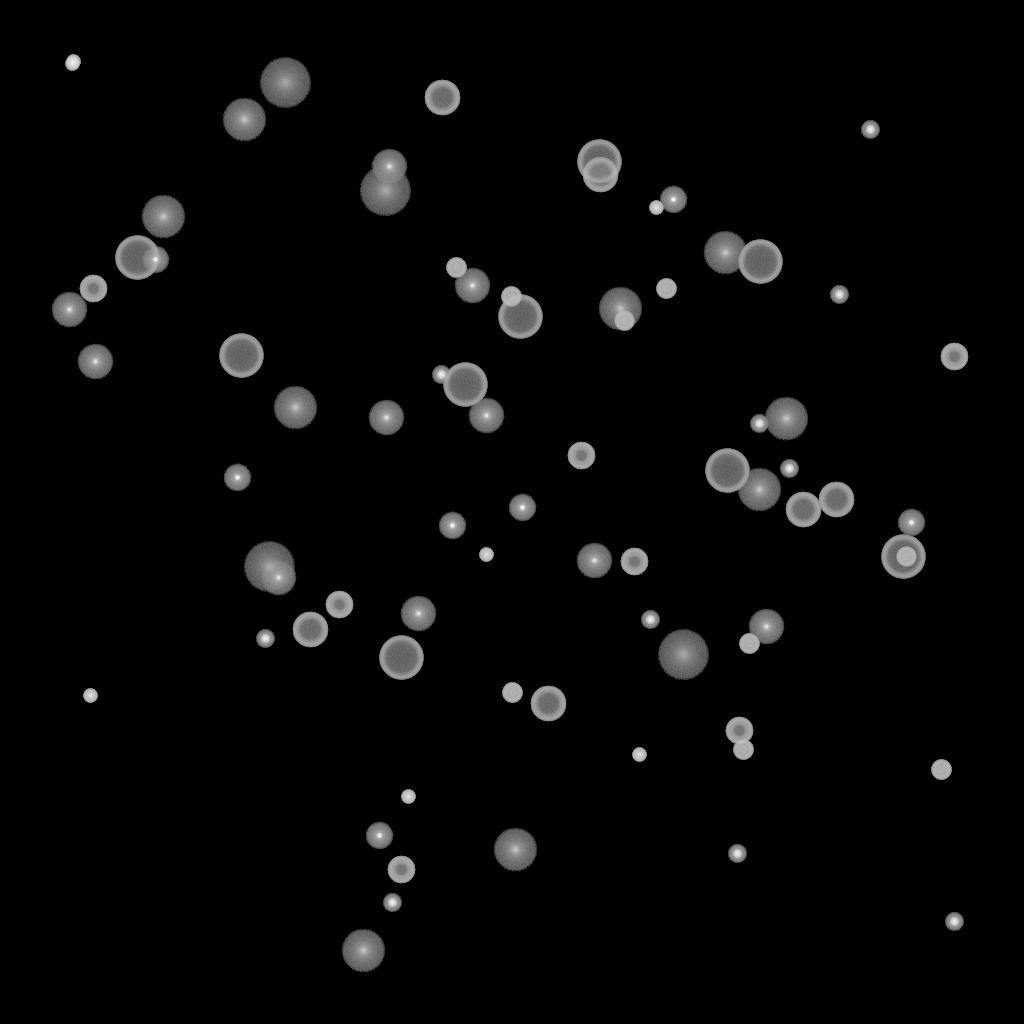depth:-10: (659, 186, 687, 214), (365, 822, 393, 850), (508, 494, 536, 522), (141, 246, 169, 274), (223, 464, 251, 492), (438, 512, 466, 540), (897, 509, 925, 537)
depth:-20: (861, 121, 879, 139), (383, 894, 401, 912), (830, 286, 848, 304), (750, 415, 768, 433), (728, 845, 746, 863), (780, 460, 798, 478), (256, 630, 274, 648), (432, 366, 450, 384), (641, 611, 659, 629), (945, 913, 963, 931)
depth:-30: (83, 689, 97, 703), (479, 548, 493, 562), (649, 201, 663, 215), (401, 790, 415, 804), (66, 55, 80, 69), (632, 748, 646, 762), (65, 57, 79, 71)
depth:-40: (931, 760, 951, 780), (446, 258, 466, 278), (614, 311, 634, 331), (739, 634, 759, 654), (656, 279, 676, 299), (896, 547, 916, 567), (501, 287, 521, 307), (733, 740, 753, 760), (502, 683, 522, 703)
depth:-50: (325, 591, 353, 619), (940, 343, 968, 371), (567, 442, 595, 470), (387, 856, 415, 884), (620, 548, 648, 576), (79, 275, 107, 303), (725, 717, 753, 745)
depth:-60: (582, 157, 618, 193), (424, 80, 460, 116), (785, 492, 821, 528), (530, 686, 566, 722), (818, 482, 854, 518), (292, 612, 328, 648)
depth:-70: (577, 140, 621, 184), (115, 236, 159, 280), (881, 535, 925, 579), (219, 334, 263, 378), (498, 295, 542, 339), (379, 636, 423, 680), (705, 449, 749, 493), (738, 240, 782, 284), (443, 363, 487, 407)
depth:0: (260, 560, 296, 596), (400, 596, 436, 632), (77, 344, 113, 380), (368, 400, 404, 436), (468, 398, 504, 434), (371, 149, 407, 185), (748, 609, 784, 645), (454, 268, 490, 304), (576, 543, 612, 579), (51, 292, 87, 328)
depth:10: (598, 287, 642, 331), (341, 929, 385, 973), (141, 195, 185, 239), (737, 468, 781, 512), (493, 828, 537, 872), (764, 397, 808, 441), (273, 386, 317, 430), (222, 98, 266, 142), (703, 231, 747, 275)
depth:20: (243, 542, 295, 592), (359, 166, 411, 216), (657, 630, 709, 680), (259, 58, 311, 108)
